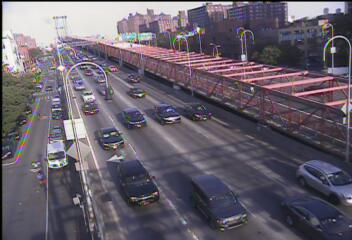neg: (292, 85, 323, 126), (13, 64, 43, 103), (58, 115, 87, 153), (211, 135, 238, 171), (107, 162, 134, 198), (217, 80, 243, 115), (220, 193, 245, 227), (160, 152, 185, 185), (69, 35, 93, 68), (169, 83, 193, 115), (132, 107, 155, 139), (290, 45, 313, 76), (284, 145, 307, 176), (145, 26, 168, 56), (229, 22, 251, 51), (276, 178, 298, 207), (102, 79, 122, 106)
